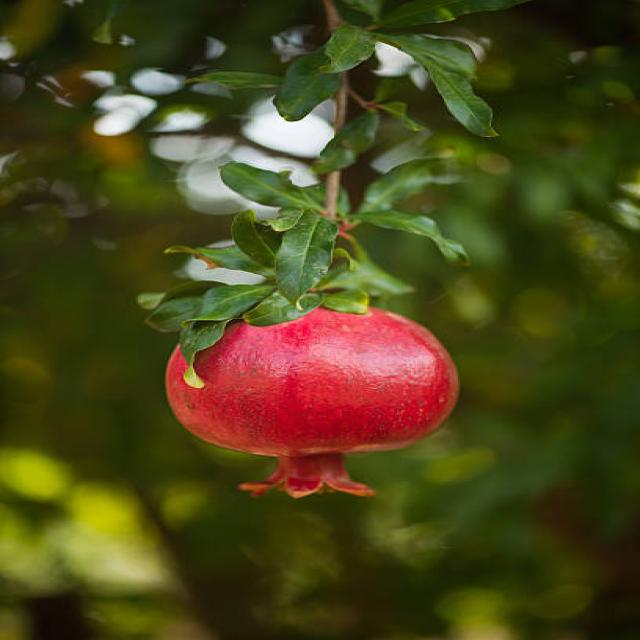Ripe: (154, 295, 460, 502)
